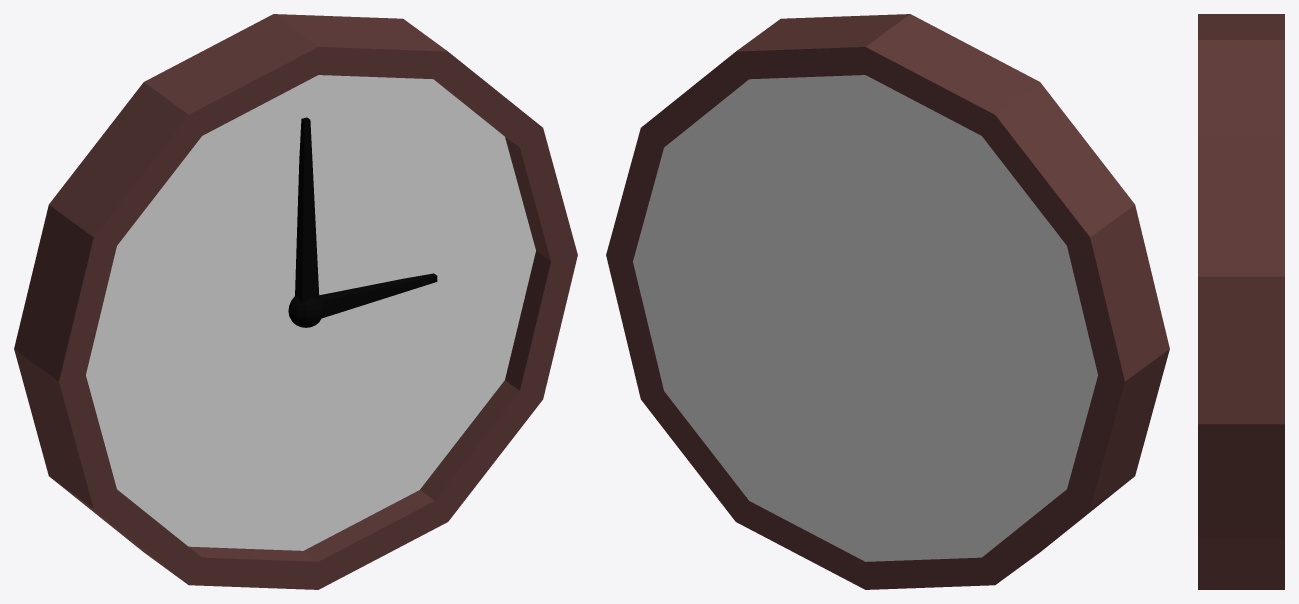
File: Clock.fbx
3 views of the same model, side by side, from view 1: azimuth 30°, elevation 25°; view 2: azimuth 150°, elevation 25°; view 3: azimuth 270°, elevation 25° (orthographic). The views are drawn at different scales.
Parts seen in each view (by area): view 1: Cylinder, Cube, Cube.001, Sphere; view 2: Cylinder; view 3: Cylinder.
Part boxes in pixels (left/top/right/bottom): Cylinder: left=14, top=14, right=577, bottom=589; Cube: left=295, top=117, right=319, bottom=303; Cube.001: left=319, top=273, right=437, bottom=318; Sphere: left=288, top=296, right=324, bottom=327; Cylinder: left=606, top=14, right=1169, bottom=589; Cylinder: left=1198, top=14, right=1284, bottom=589.
Size of the model in its own units: 600 by 600 by 90.
